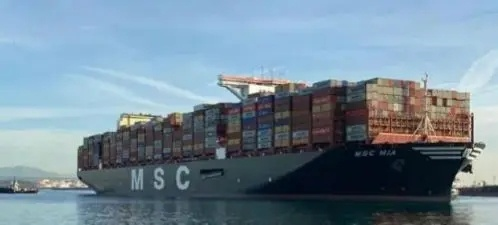Cargoship: (64, 67, 482, 197)
